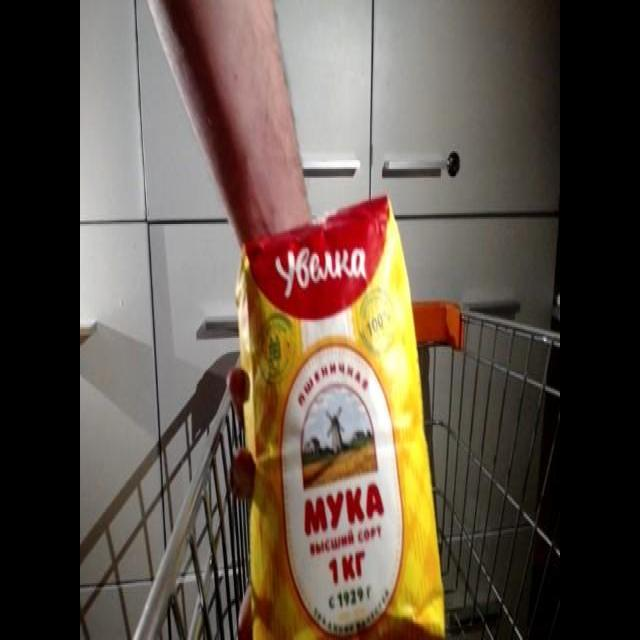Flour: (234, 191, 442, 634)
